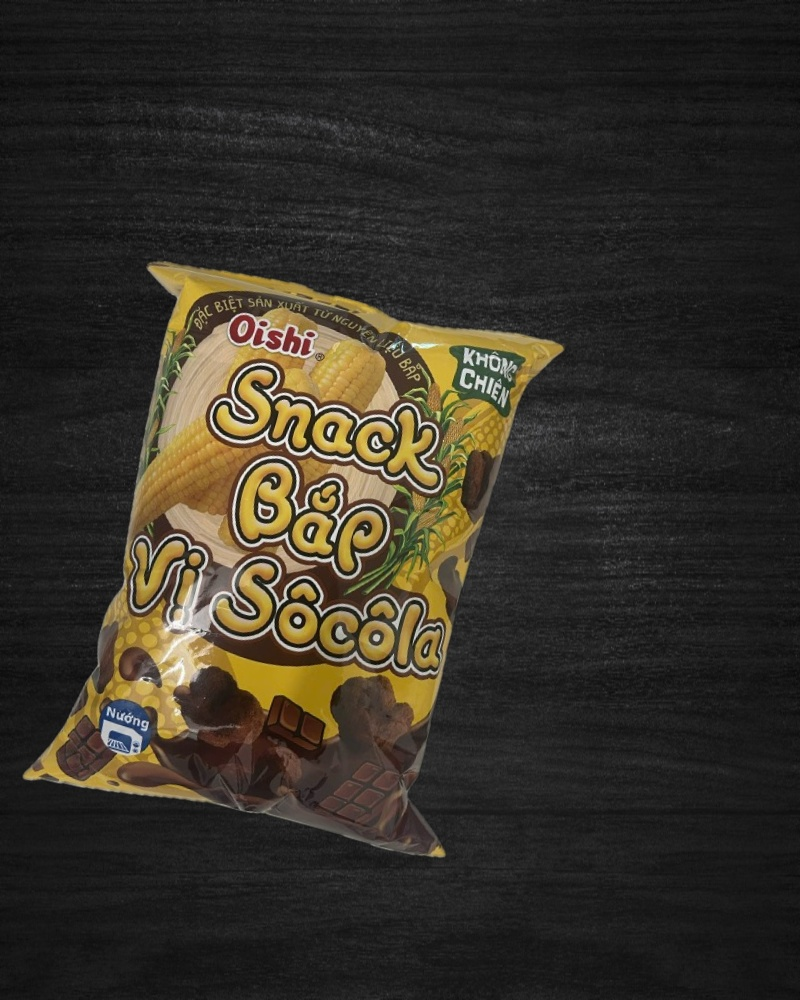Snack socola: (15, 239, 581, 879)
